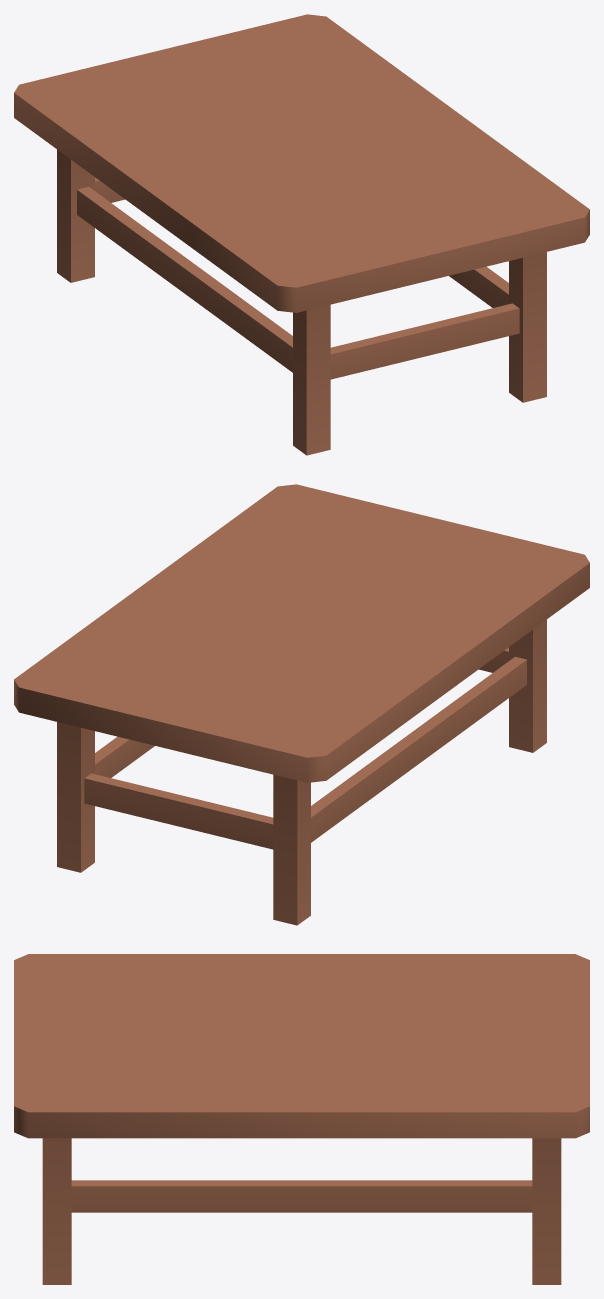
File: town-stall.glb
3 views of the same model, one above another, from view 1: azimuth 30°, elevation 25°; view 2: azimuth 150°, elevation 25°; view 3: azimuth 270°, elevation 25° (orthographic). The views are drawn at different scales.
Visible parts, largest first — view 1: town-stall; view 2: town-stall; view 3: town-stall.
Part boxes in pixels (bbox=[...]): town-stall: bbox=[14, 14, 589, 455]; town-stall: bbox=[14, 484, 589, 925]; town-stall: bbox=[14, 954, 589, 1284].
Bounding box in the file's own units: 0.65 × 0.3655 × 1.
